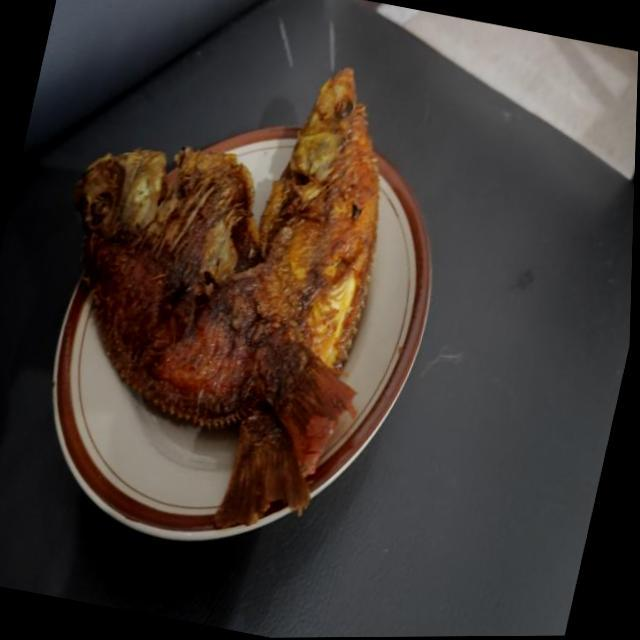ikan_mujair: (76, 150, 356, 460), (219, 68, 380, 522)
